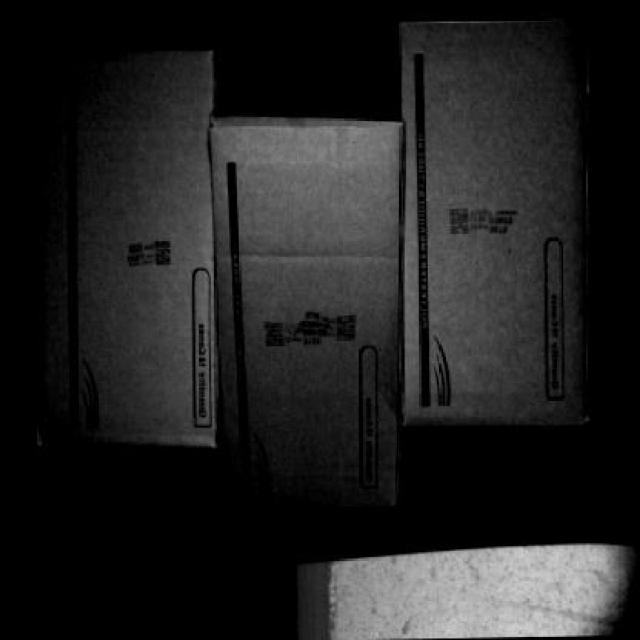cardboxes: (395, 13, 588, 424), (220, 121, 405, 497), (55, 58, 214, 440)
